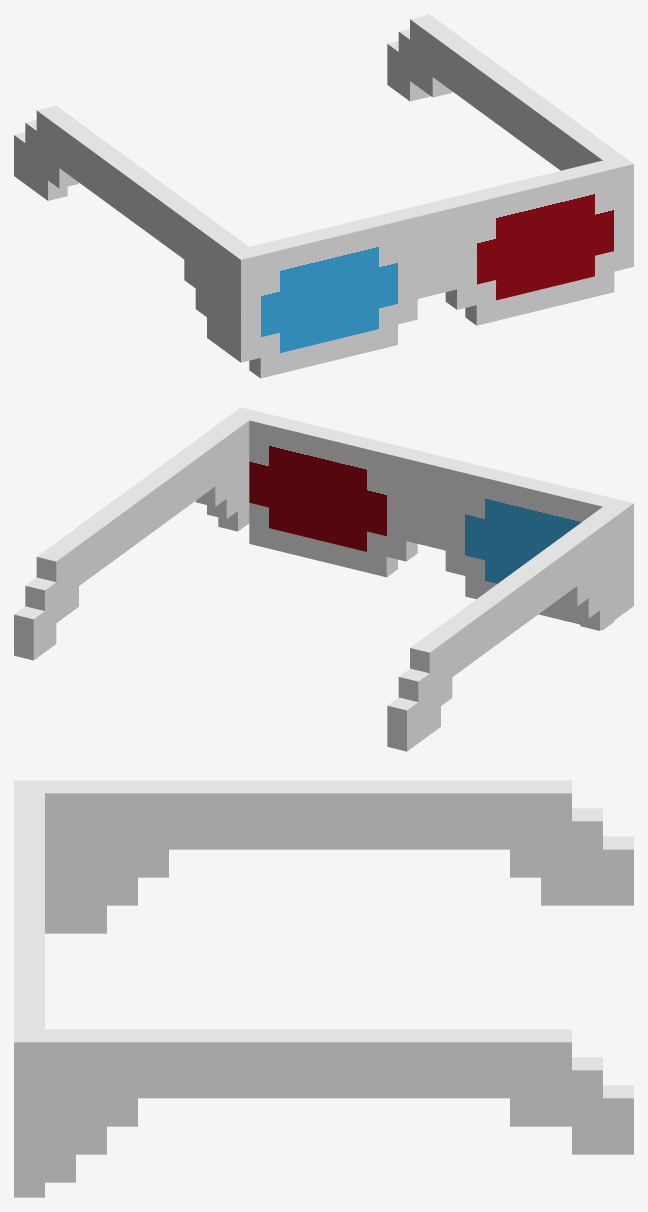
Rendered from 3DGlasses01.fbx.
The picture shows the model from 3 angles, top to bottom: view 1: azimuth 30°, elevation 25°; view 2: azimuth 150°, elevation 25°; view 3: azimuth 270°, elevation 25°; orthographic projection. The views are drawn at different scales.
Parts seen in each view (by area): view 1: Matrix; view 2: Matrix; view 3: Matrix.
Part boxes in pixels (x1=…): Matrix: x1=14, y1=14, x2=633, y2=378; Matrix: x1=14, y1=407, x2=633, y2=751; Matrix: x1=14, y1=780, x2=633, y2=1197.
Size of the model in its own units: 20 by 6 by 20.
